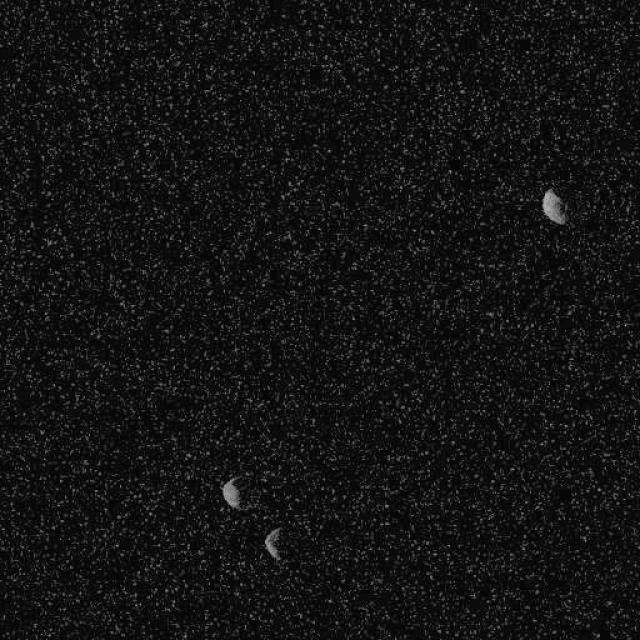D2: (540, 187, 568, 225), (218, 474, 242, 510), (262, 525, 282, 561)
